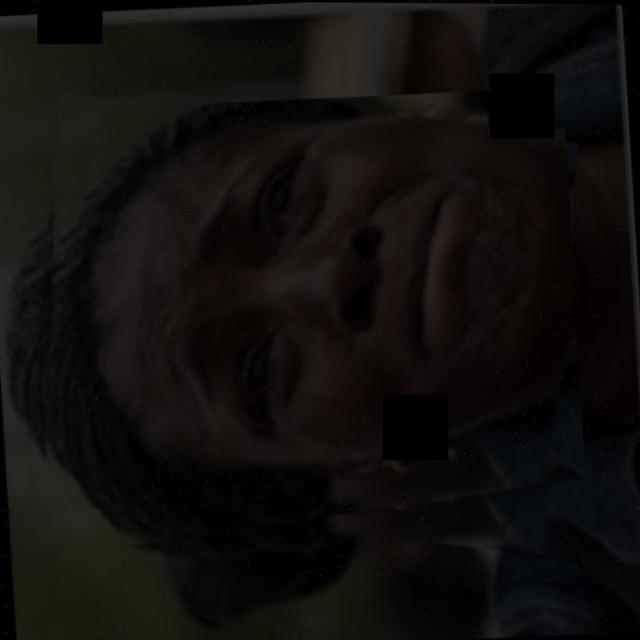sad: (56, 85, 524, 527)
